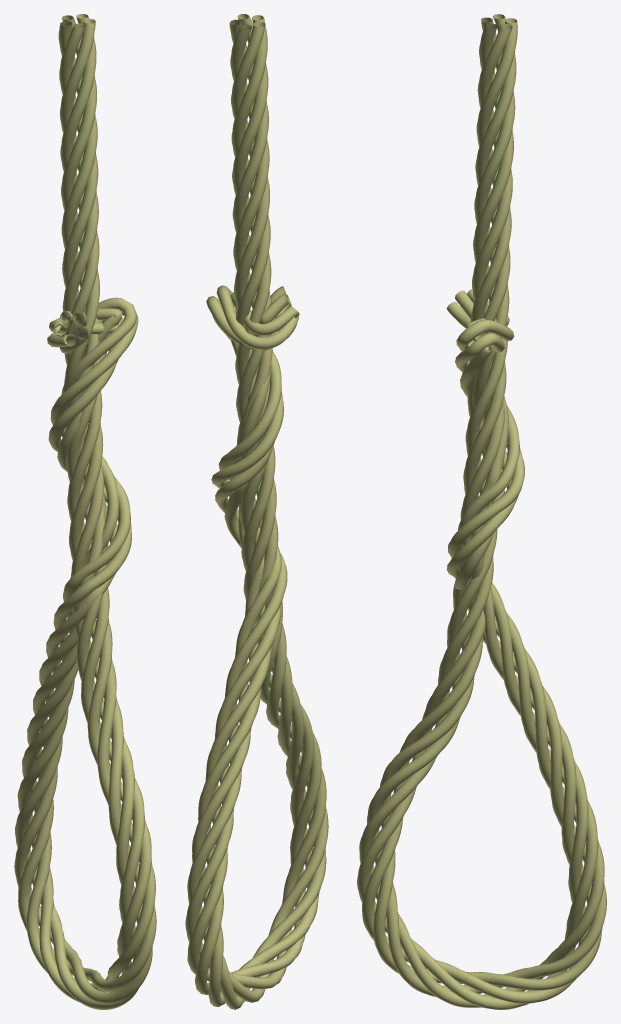
The model's file is Rope.fbx.
3 renders of one model, left to right at view 1: azimuth 30°, elevation 25°; view 2: azimuth 150°, elevation 25°; view 3: azimuth 270°, elevation 25°, orthographic.
Parts seen in each view (by area): view 1: sweep2; view 2: sweep2; view 3: sweep2.
Boxes of the visible parts, x1,y1,x2,y2 form: sweep2: (14, 14, 156, 1009); sweep2: (185, 14, 328, 1009); sweep2: (357, 14, 606, 1009).
Size of the model in its own units: 0.6151 by 6.65 by 1.53.
